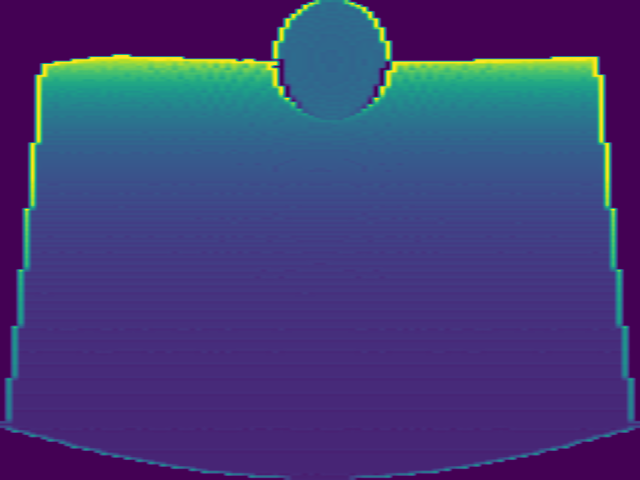sphere: (273, 1, 394, 120)
